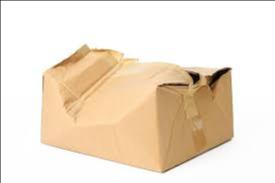damage_box: (38, 41, 235, 172)
